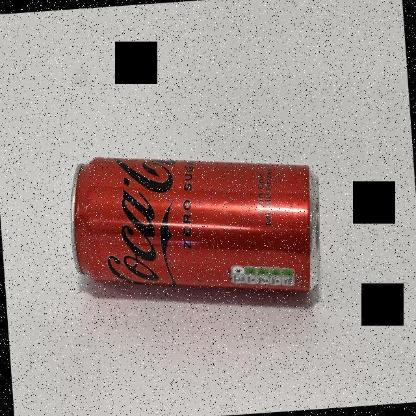Can: (70, 158, 320, 296)
